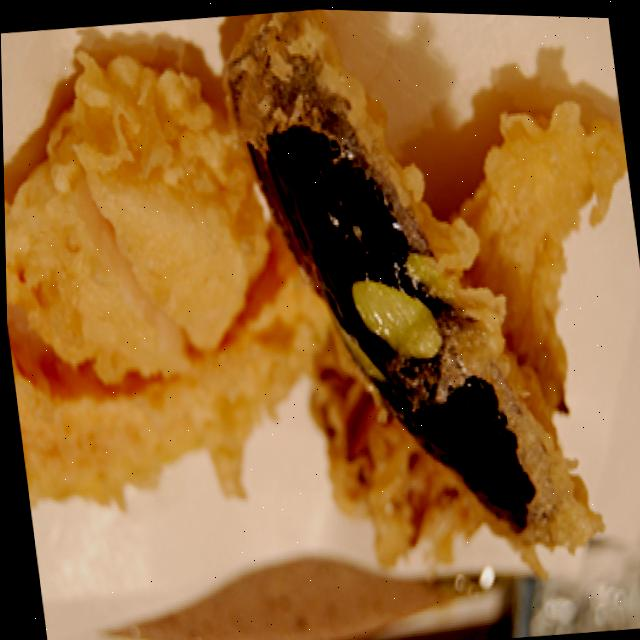蔬菜料理: (0, 0, 640, 613)
